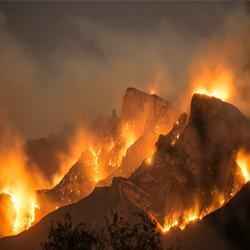fire: (3, 187, 41, 225), (191, 82, 231, 101), (165, 212, 202, 229), (87, 143, 101, 183), (234, 149, 250, 183)
